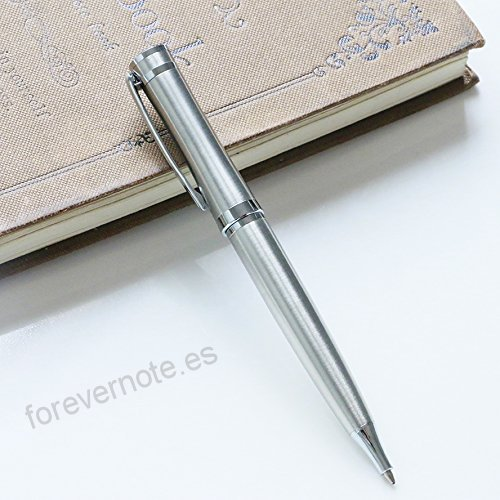Boligrafo: (126, 43, 399, 489)
